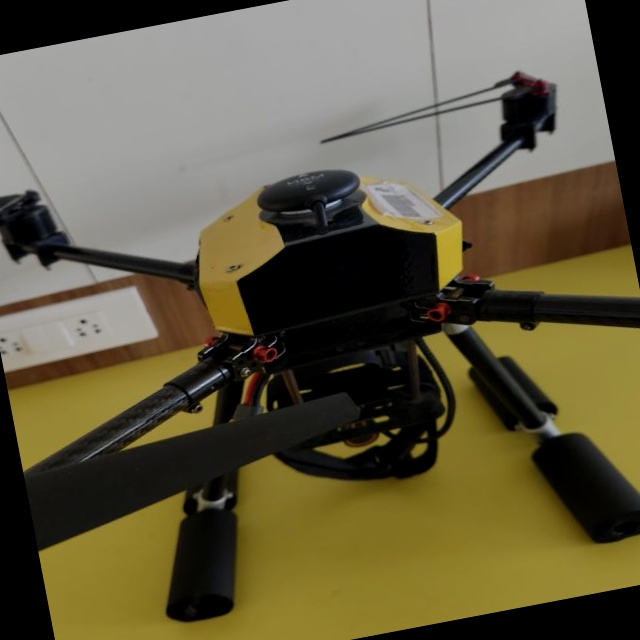quadcopter: (0, 45, 640, 640)
